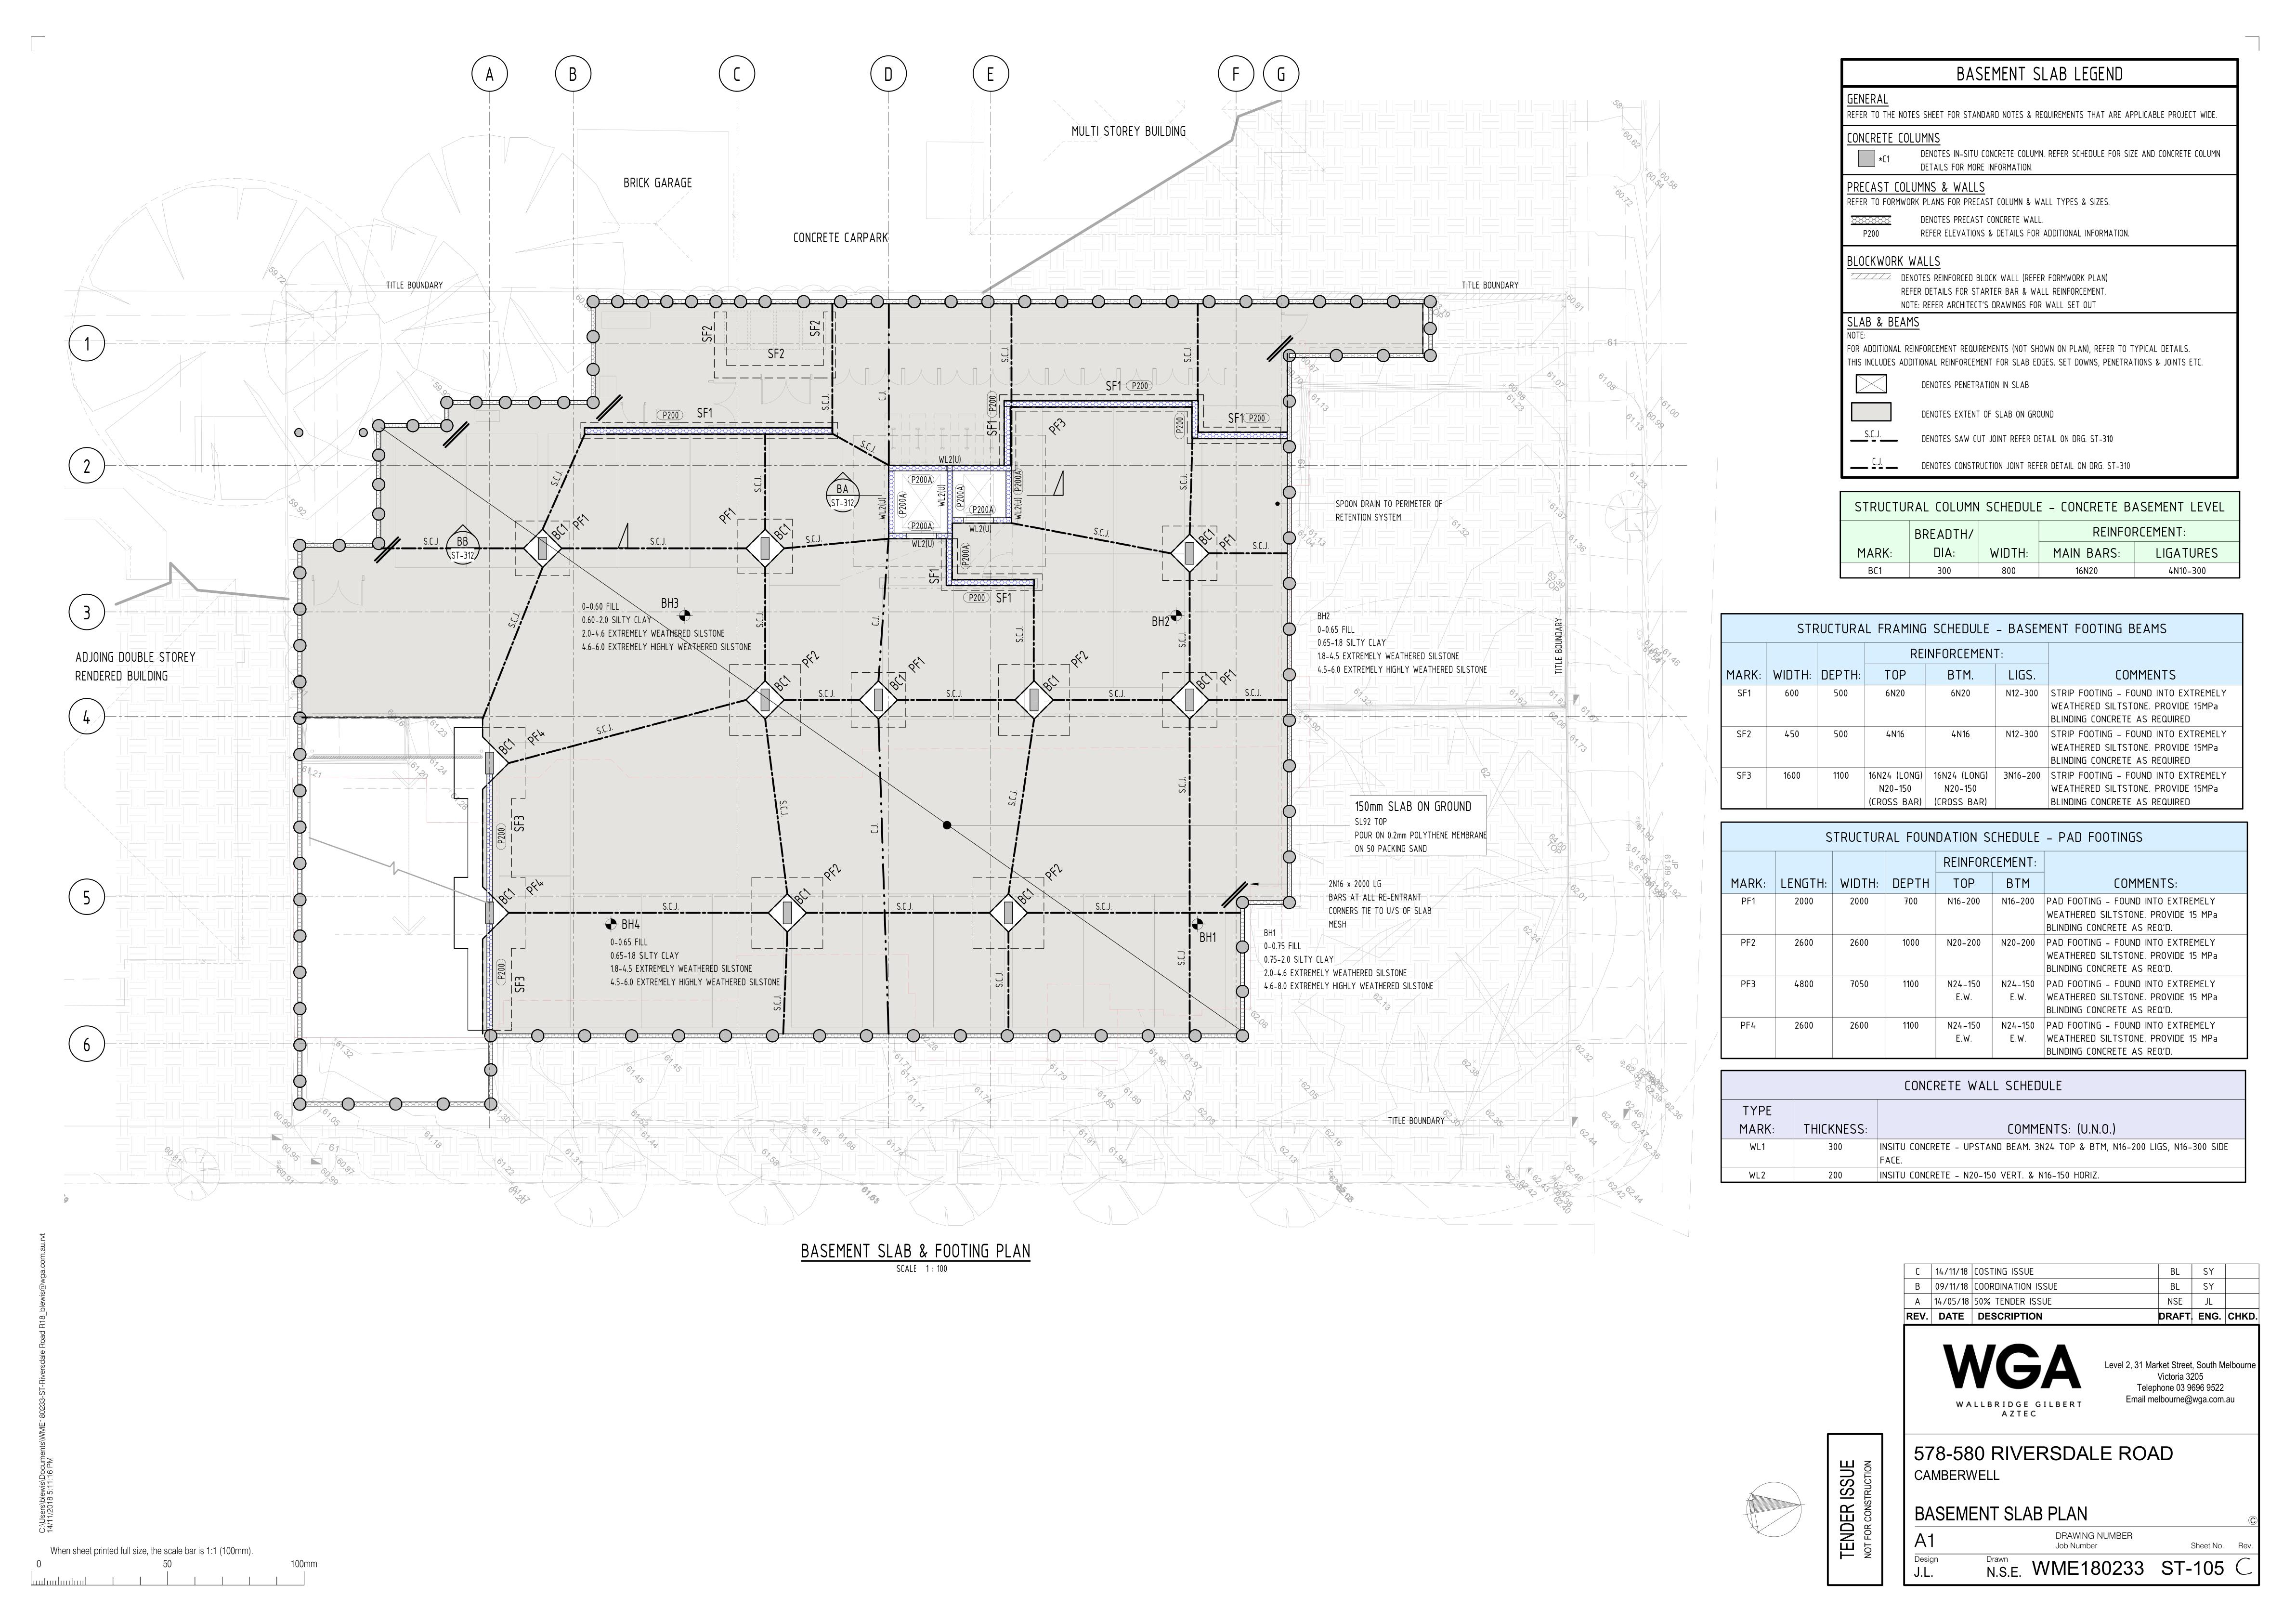BC1: (1011, 881, 1044, 909), (767, 520, 797, 544), (495, 734, 520, 758), (790, 885, 814, 908), (886, 671, 908, 693), (1039, 672, 1062, 693), (546, 521, 569, 541), (1194, 671, 1213, 693), (774, 672, 793, 693), (499, 886, 518, 908), (1195, 525, 1215, 544)
BH1: (1201, 929, 1222, 948)
BH2: (1146, 609, 1174, 630)
BH3: (655, 592, 688, 611)
BH4: (621, 915, 644, 936)
PF1: (1220, 658, 1241, 686), (714, 500, 737, 523), (1216, 532, 1239, 555), (570, 506, 592, 530), (904, 653, 929, 672)
PF2: (811, 858, 850, 881), (1039, 860, 1069, 883), (1065, 650, 1092, 671), (800, 648, 823, 669)
PF3: (1041, 409, 1074, 441)
PF4: (523, 872, 549, 899), (528, 727, 551, 748)
SF1: (1095, 369, 1125, 397), (1225, 405, 1246, 428), (990, 586, 1013, 607), (923, 565, 943, 590), (697, 402, 718, 421), (983, 418, 999, 441)
SF2: (762, 339, 788, 363), (695, 319, 716, 344), (807, 319, 823, 339)
SF3: (514, 971, 535, 997), (511, 807, 532, 832)
